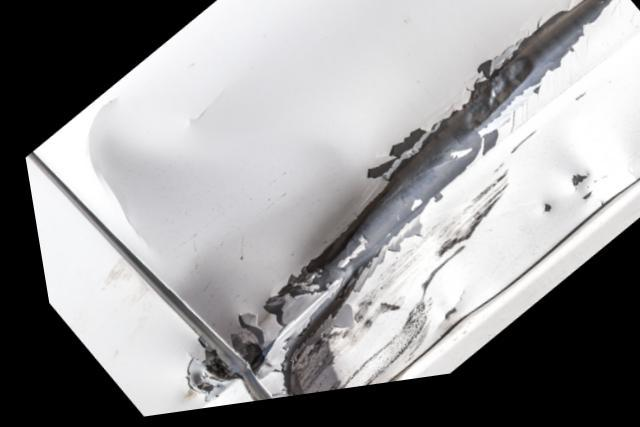dent: (91, 0, 640, 403), (176, 345, 225, 395)
